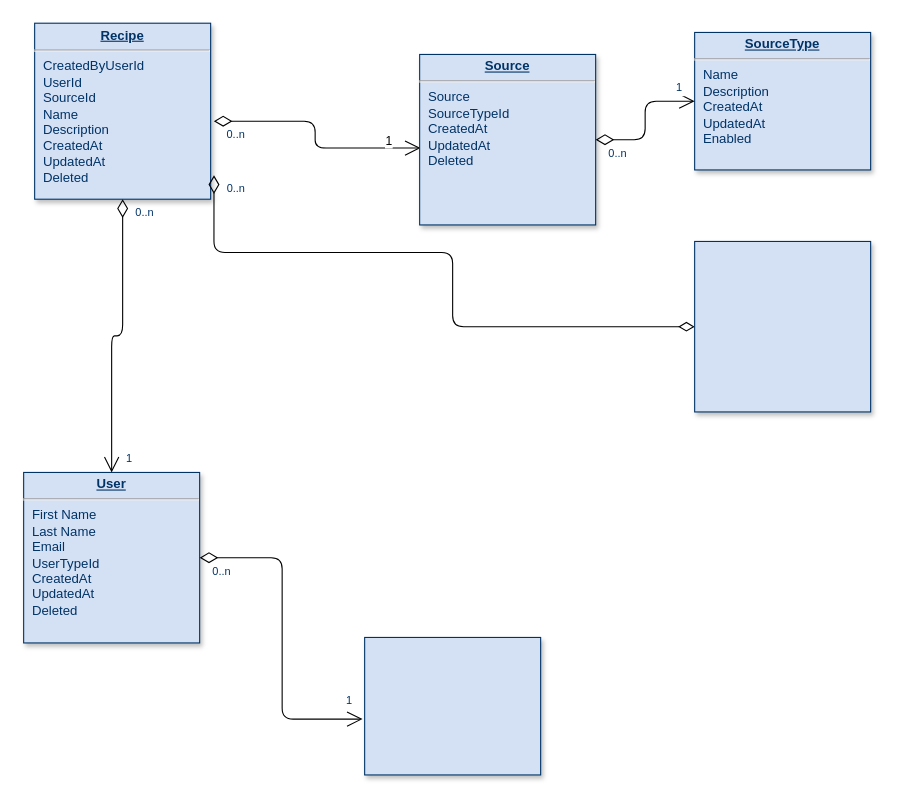
The diagram is 897 pixels wide and 803 high, and some of its shapes have lost their labels. The centre of each missing label's shape, as x and y in pixels:
Ingredient Name CreatedAt UpdatedAt Deleted: (x=783, y=328)
UserType Name Description CreatedAt UpdatedAt Enabled: (x=453, y=707)
